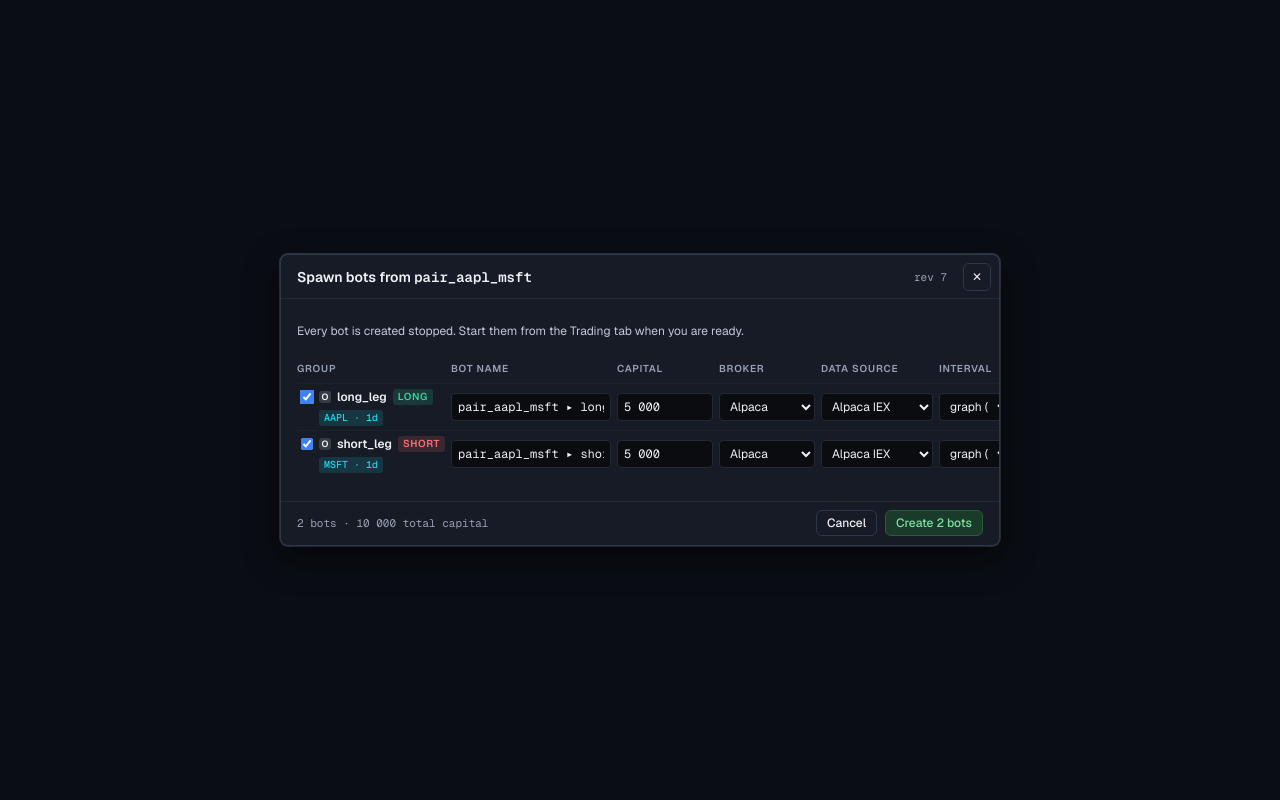
it: SpawnBotsDialog (S34) › disables the primary for no legs and for a bad capital
The image size is (1280, 800).
Replace the text in the field named "Capital for long_leg" with "0". click: (665, 407)
box: [617, 393, 713, 421]
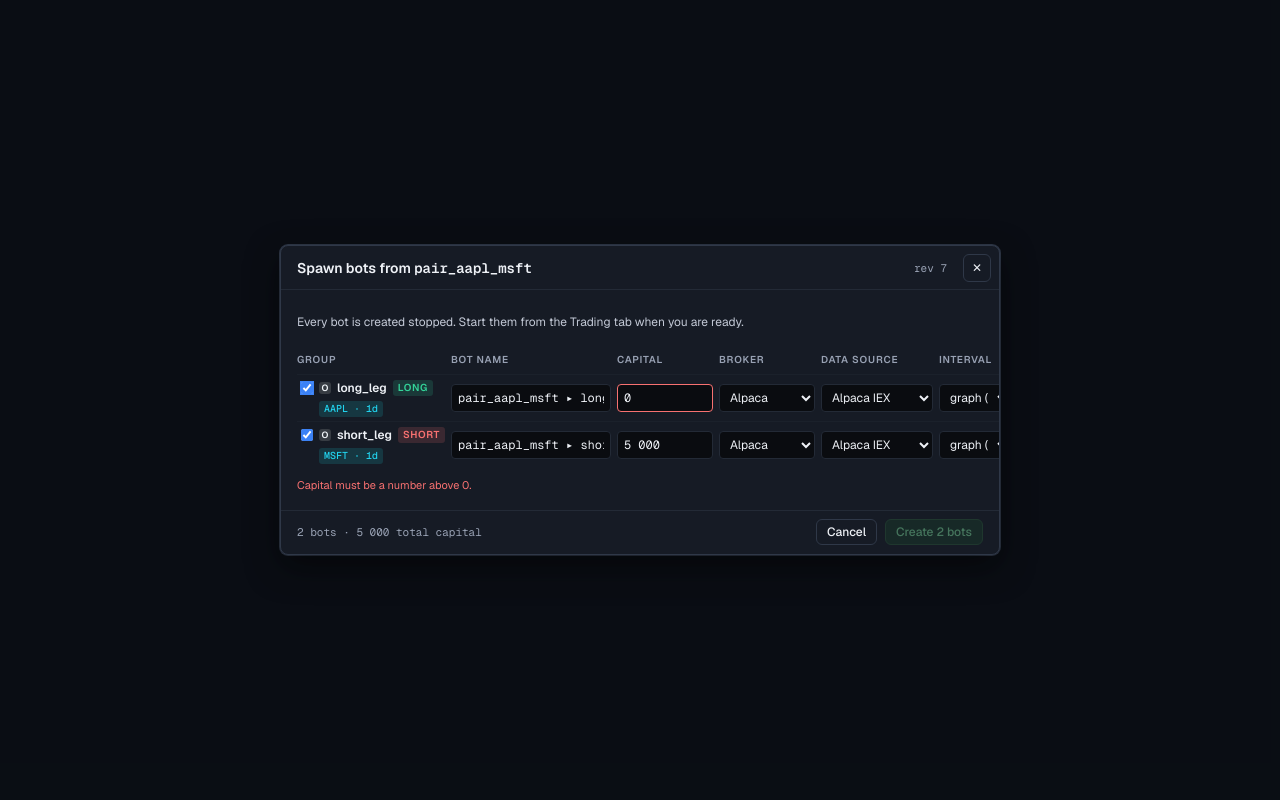
Expected: the button with test id "nb-dialog-primary" is disabled, [885, 519, 983, 545]
Expected: the text with test id "nb-spawn-capital-hint" reads "Capital must be a number above 0.", [297, 478, 472, 492]
Click the checkbox named "Include long_leg". click: click(307, 388)
box: [301, 382, 313, 394]
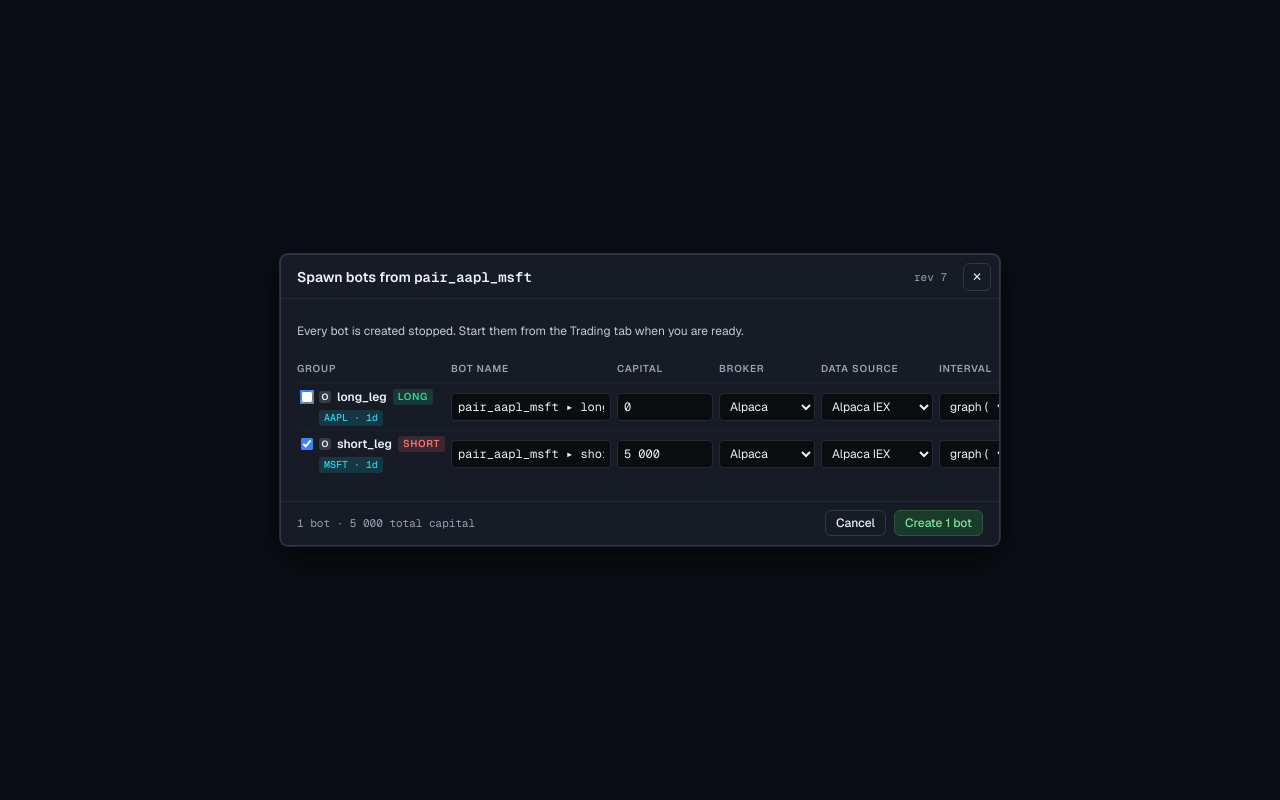
Click the checkbox named "Include short_leg". click: click(307, 444)
box: [301, 438, 313, 450]
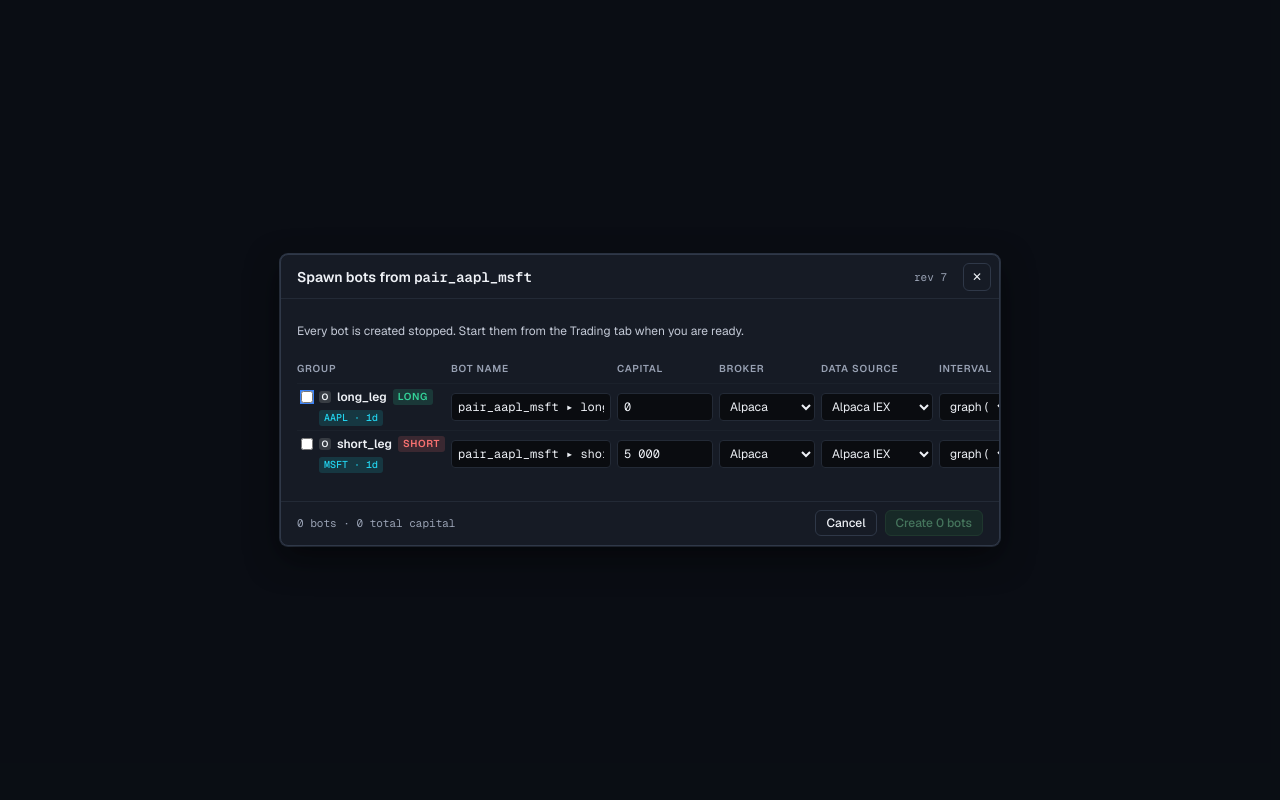
Expected: the button with test id "nb-dialog-primary" is disabled, [884, 510, 983, 536]
